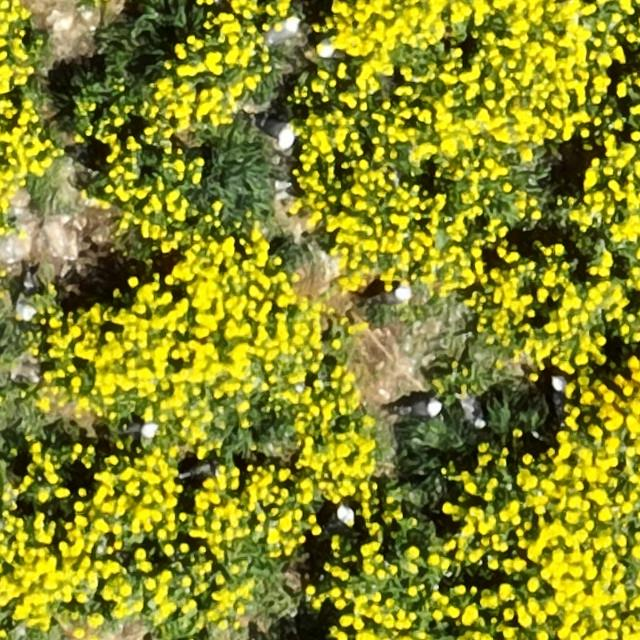umineko: (15, 256, 45, 324), (255, 118, 295, 145), (118, 420, 158, 446), (264, 17, 299, 44), (402, 399, 440, 418), (326, 506, 354, 529), (386, 286, 414, 304)
